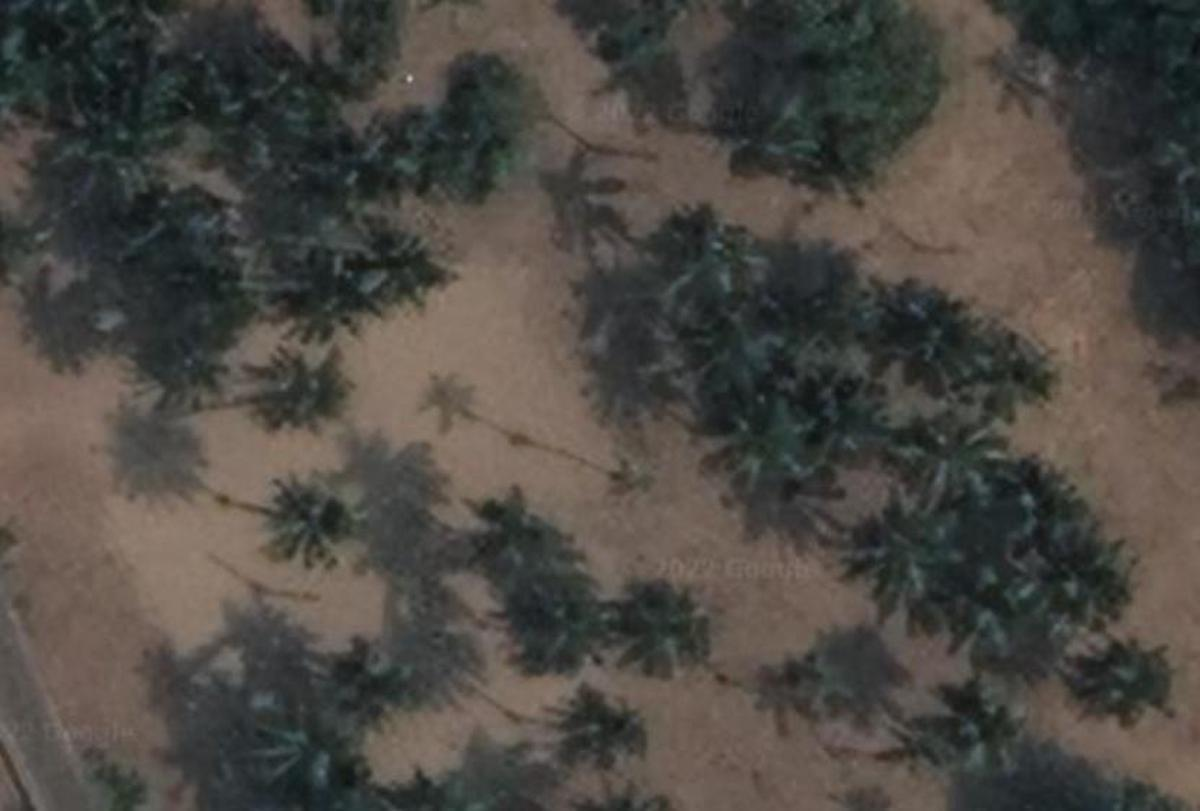coconut: (458, 480, 569, 580), (715, 85, 820, 184), (897, 404, 998, 503), (509, 567, 607, 666), (317, 632, 422, 720), (713, 391, 810, 486), (868, 503, 962, 601), (660, 207, 762, 295), (356, 217, 457, 304), (1077, 633, 1171, 725), (275, 242, 364, 336), (618, 574, 708, 666), (69, 88, 155, 180), (249, 701, 334, 793), (168, 240, 255, 329), (266, 476, 350, 564), (145, 323, 230, 406), (571, 688, 653, 770), (1065, 542, 1142, 623), (124, 46, 201, 125), (258, 350, 337, 424), (957, 701, 1028, 770), (610, 435, 675, 503)
